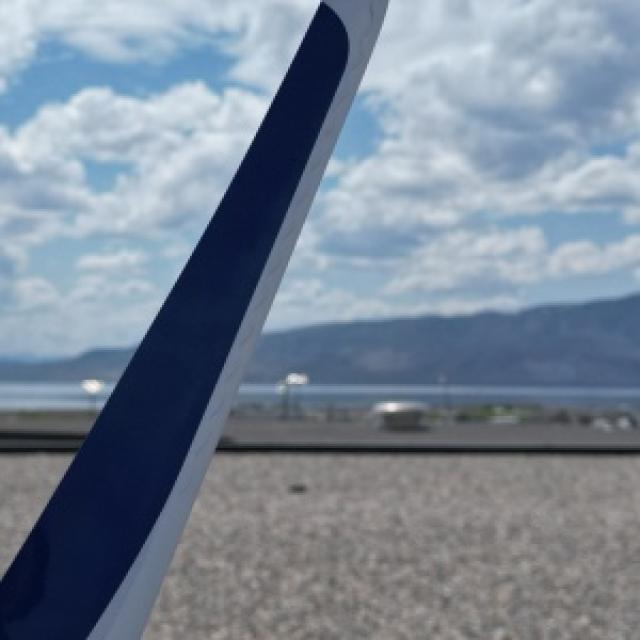healthy: (0, 0, 384, 638)
